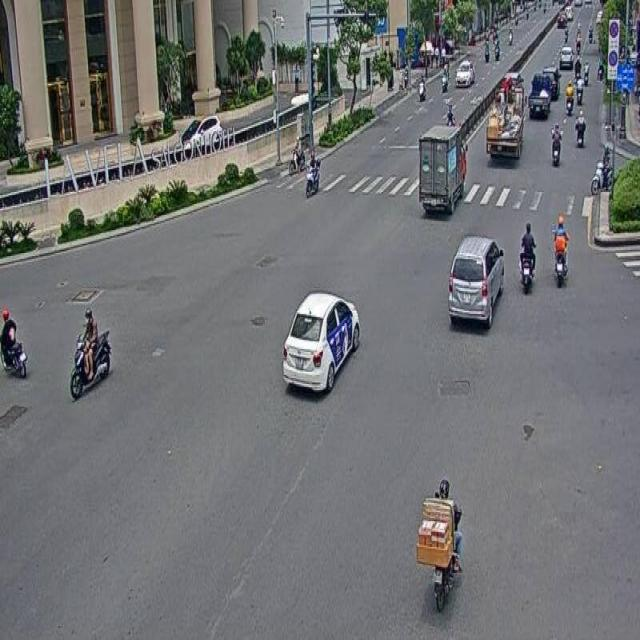car: (280, 290, 361, 396), (448, 235, 506, 332)
motorcycle: (419, 477, 463, 614), (70, 310, 109, 402), (551, 212, 568, 286), (520, 226, 536, 290)
truck: (418, 125, 467, 218)
